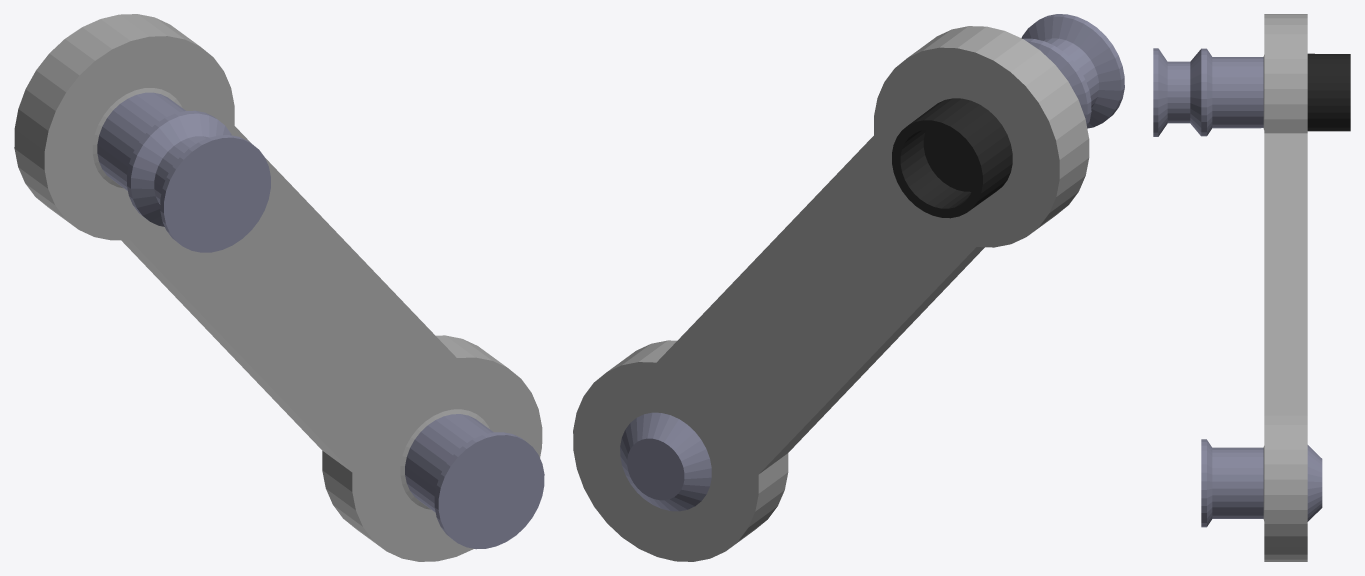
Rendered from mcatlinkD.dae.
3 renders of one model, left to right at view 1: azimuth 30°, elevation 25°; view 2: azimuth 150°, elevation 25°; view 3: azimuth 270°, elevation 25°, orthographic. The views are drawn at different scales.
Visible parts, largest first — view 1: LinkS1; view 2: LinkS1; view 3: LinkS1.
Boxes of the visible parts, box(x1,y1,x2,y2) form: LinkS1: box(14, 14, 544, 561); LinkS1: box(573, 14, 1124, 561); LinkS1: box(1153, 14, 1350, 561).
Size of the model in its own units: 1.57 by 0.7529 by 1.79.
